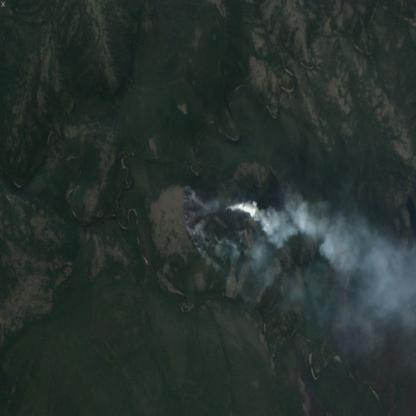fire: (176, 184, 262, 274)
